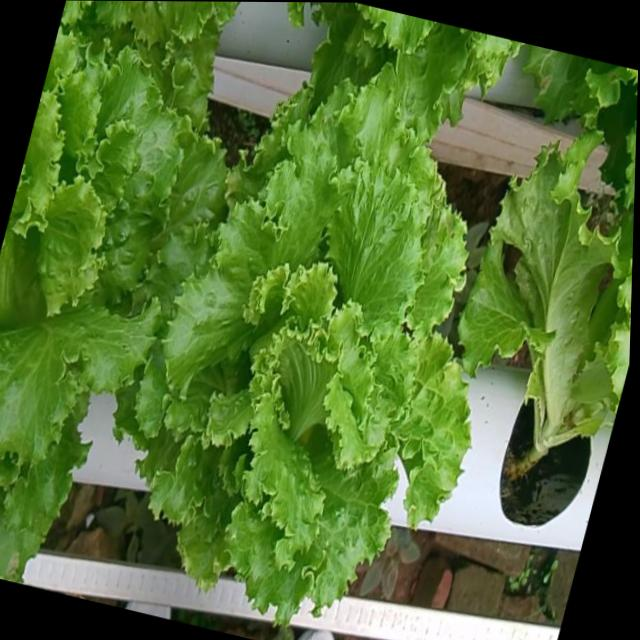Mature: (128, 85, 465, 624), (0, 52, 222, 479)
